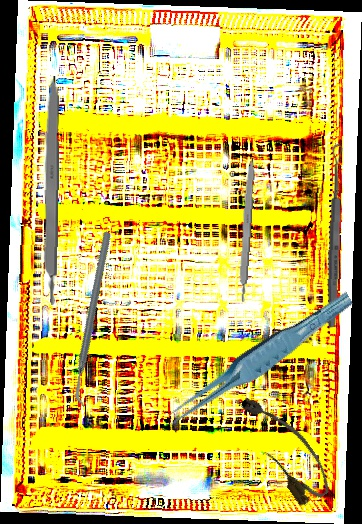Cannula: (233, 384, 338, 510)
Chopper: (15, 230, 173, 409)
Scalpel Handle: (40, 75, 61, 305), (235, 157, 257, 303)
Surgical Spoon: (325, 143, 345, 329)
Tissue Forceps: (155, 290, 362, 428)
